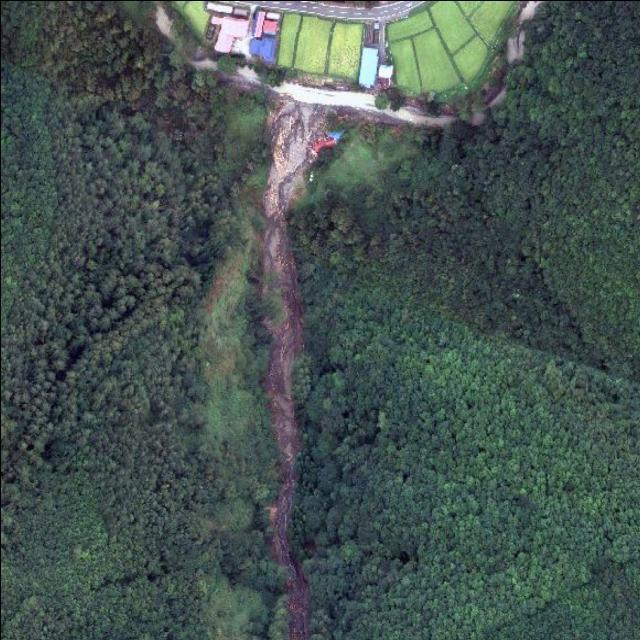landslide: (261, 97, 326, 640)
